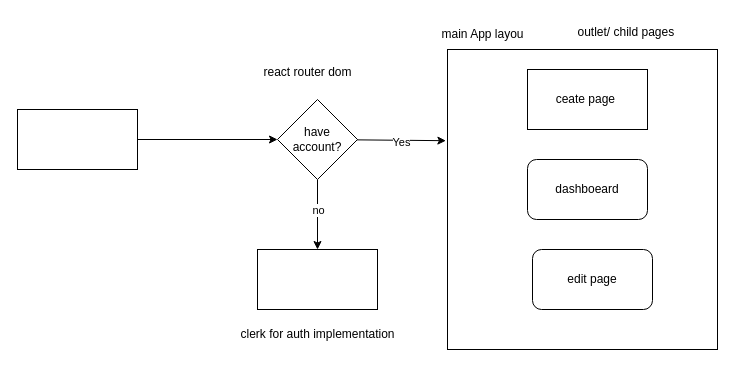
Image size: 735x367. Some labels were removed from this diagram. The shapes that lost their labels are listed below. From the top down, each one's centre as x and y in pixels, then its label:
At (x=77, y=139): "landing page".
At (x=317, y=279): "auth page".
